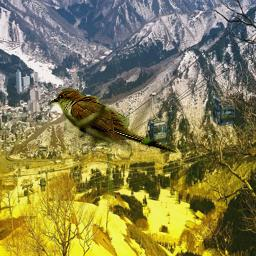Cuckoo: (49, 87, 179, 154)
